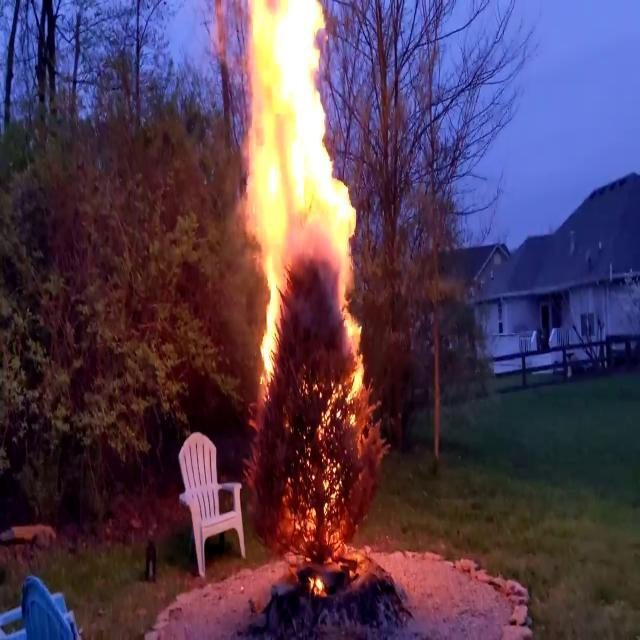Fire: (238, 1, 370, 411), (299, 434, 345, 594)
